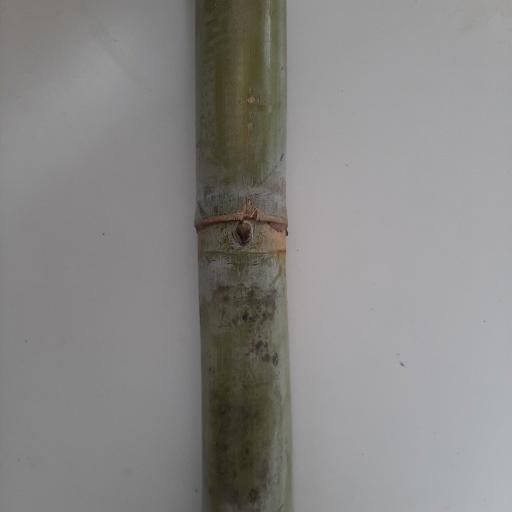Bud: (232, 219, 253, 246)
